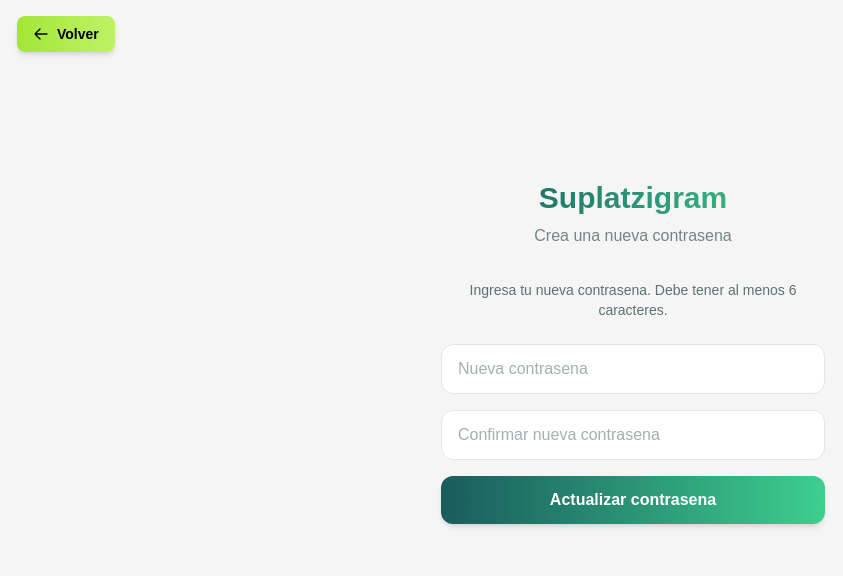
it: ResetPasswordPage › Form Validation › shows error when password is too short
Type "12345" into the password field with placeholder "Nueva contrasena". click: (633, 369)
box: [441, 344, 825, 394]
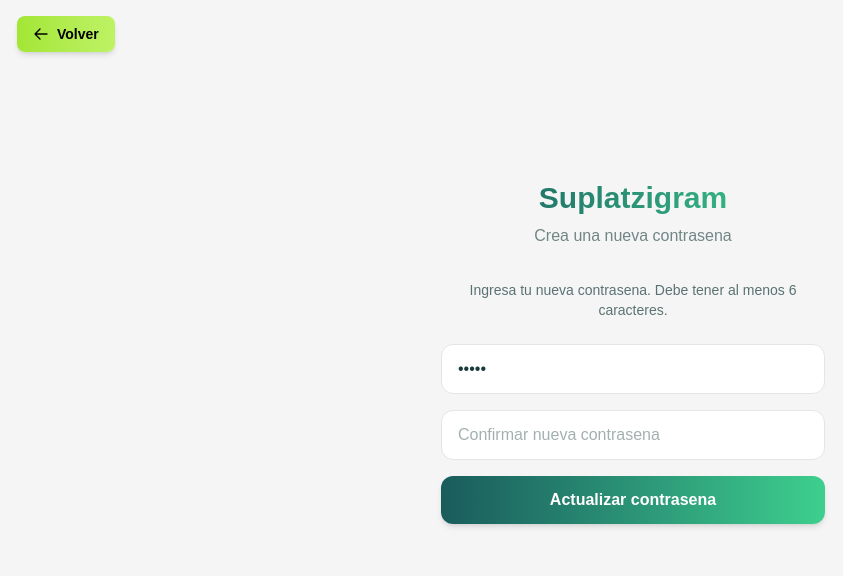
Type "12345" into the password field with placeholder "Confirmar nueva contrasena". click: (633, 435)
box: [441, 410, 825, 460]
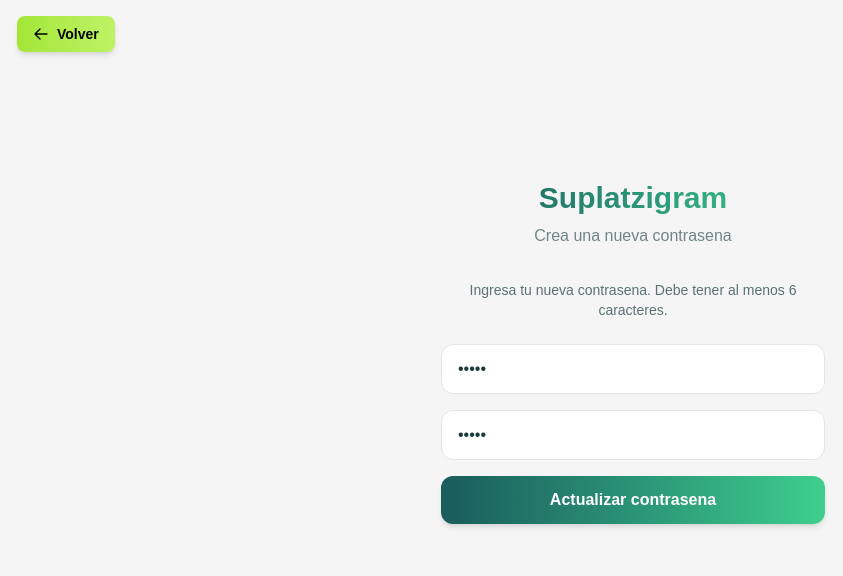
Click the button "Actualizar contrasena". click: (633, 500)
box: [441, 476, 825, 524]
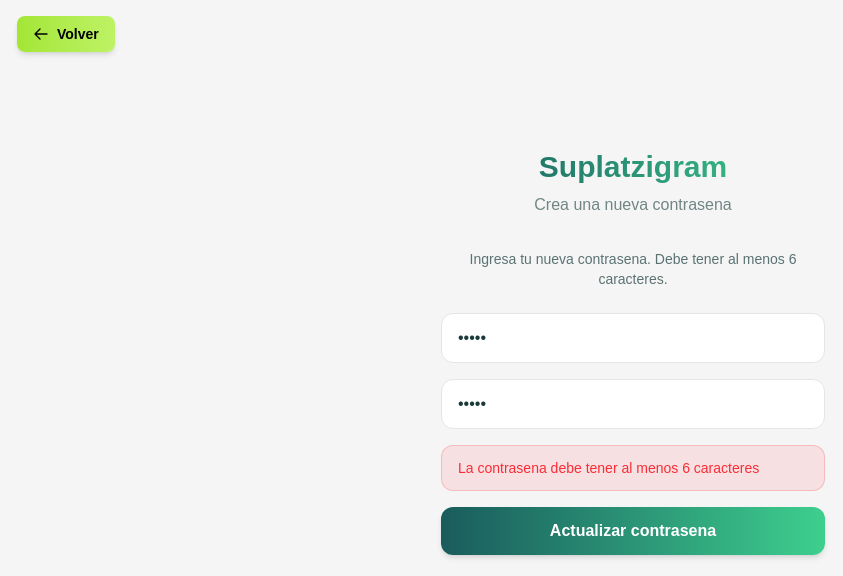
expect the text "La contrasena debe tener al menos 6 caracteres" is shown: met, box [441, 445, 825, 491]
